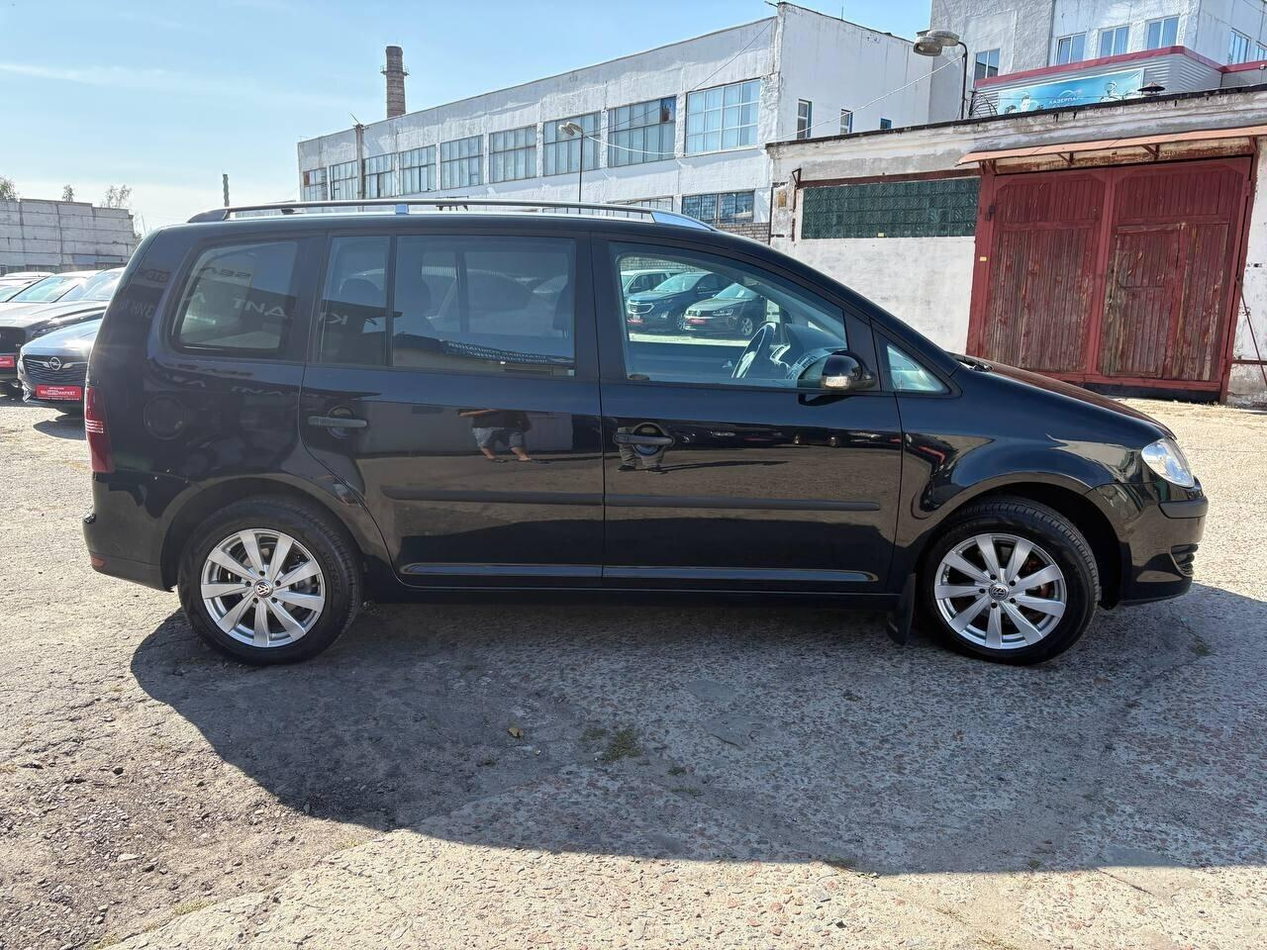Touran_2006-2010: (75, 208, 1206, 667)
